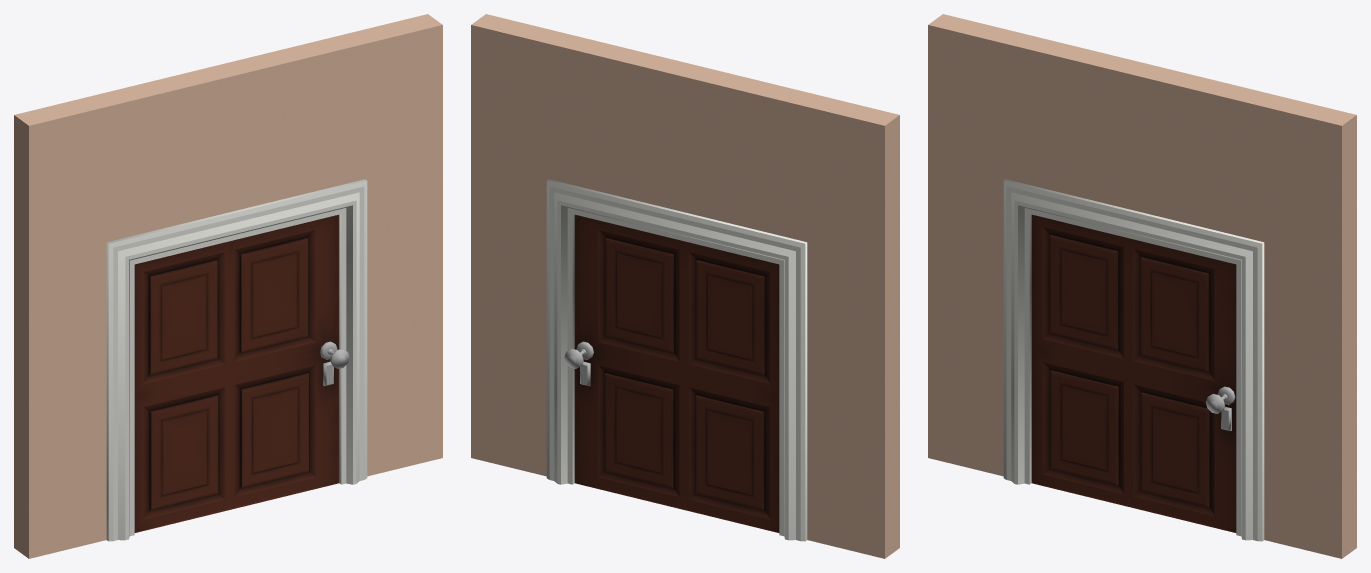
The model's file is Door.FBX.
The picture shows the model from 3 angles, left to right: view 1: azimuth 30°, elevation 25°; view 2: azimuth 150°, elevation 25°; view 3: azimuth 330°, elevation 25°; orthographic projection.
Visible parts, largest first — view 1: Wall, Door, Handle; view 2: Wall, Door, Handle; view 3: Wall, Door, Handle.
Part boxes in pixels (left/top/right/bottom): Wall: left=14, top=14, right=442, bottom=558; Door: left=134, top=214, right=339, bottom=532; Handle: left=320, top=341, right=349, bottom=368; Wall: left=471, top=14, right=899, bottom=558; Door: left=574, top=214, right=779, bottom=532; Handle: left=564, top=341, right=593, bottom=368; Wall: left=928, top=14, right=1356, bottom=558; Door: left=1031, top=214, right=1236, bottom=532; Handle: left=1205, top=386, right=1235, bottom=413.
Size of the model in its own units: 400 by 400 by 71.74.
